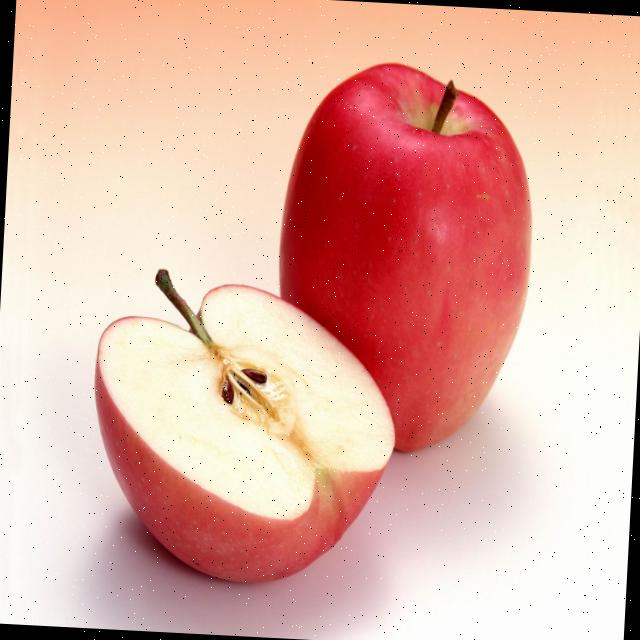Apel: (269, 56, 542, 460), (84, 264, 404, 592)
